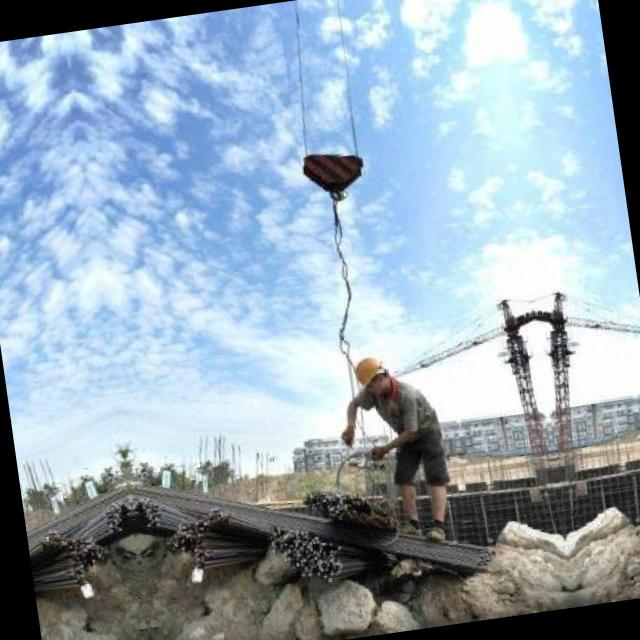helmet: (348, 347, 398, 408)
